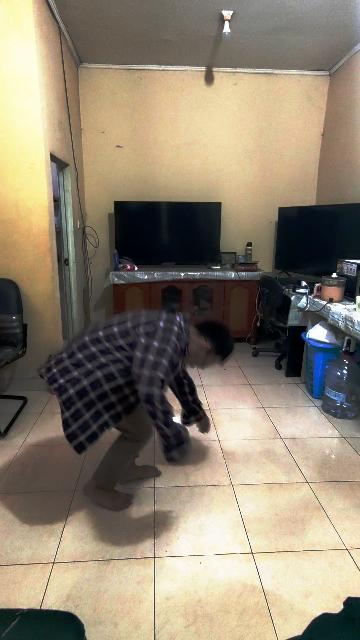jatuh: (44, 310, 229, 502)
